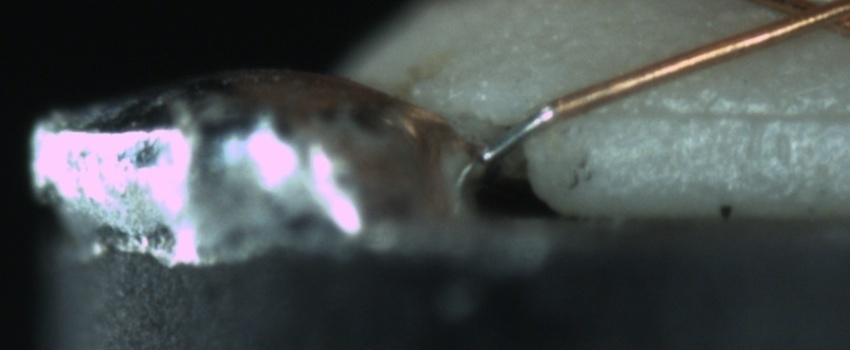CL: (747, 0, 850, 41)
DL: (607, 80, 846, 146)
TS: (485, 108, 558, 162)
TTCW: (488, 86, 587, 160)
